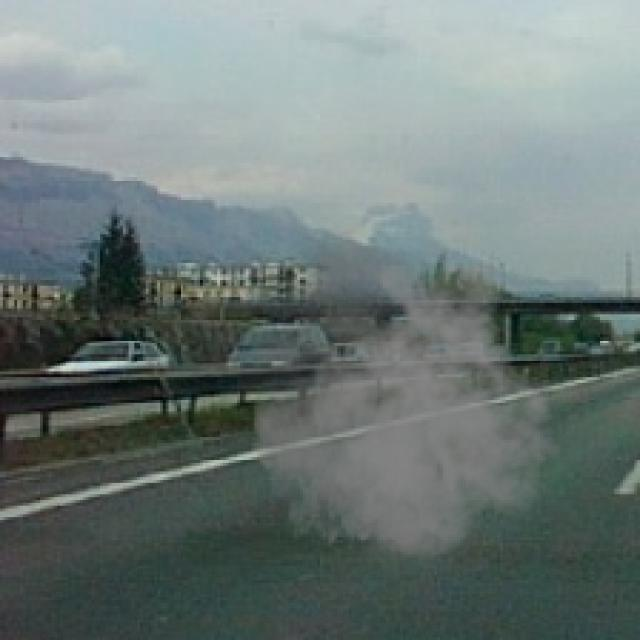Smoke: (143, 223, 563, 583)
